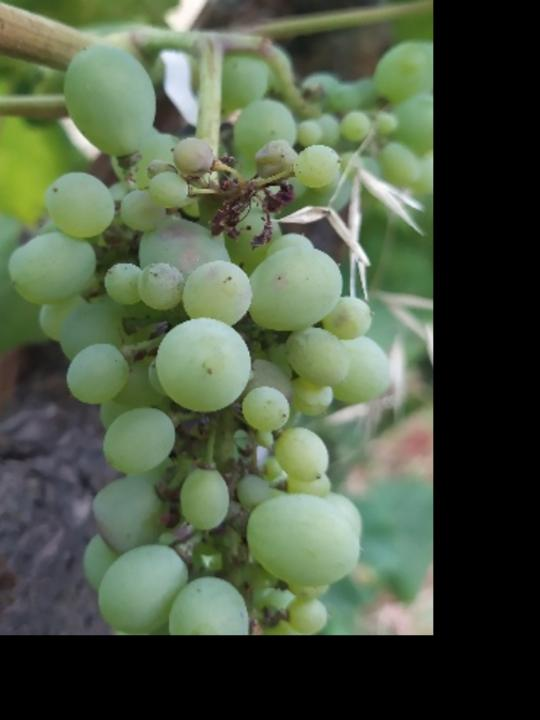grape: (3, 41, 397, 720)
